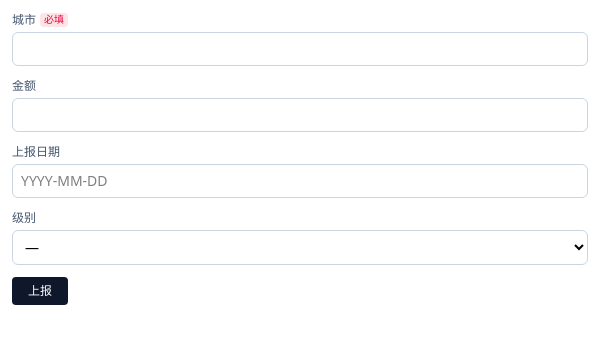
Test: FormRuntime（console 态：corrections 提交） › 必填缺失前端先拦：逐字段错误、零请求
The width and height of the screenshot is (605, 341).
Click the button with test id "form-submit" at (40, 291), box 12,277 -> 68,305
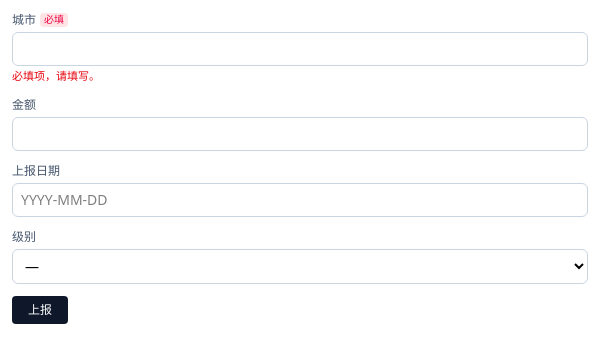
Result: the text with test id "form-field-error" shows "必填" at 12,68 -> 100,83
Type "沪" into the field with test id "form-field-input" showing "城市 必填" at (300, 49), box 12,32 -> 588,66
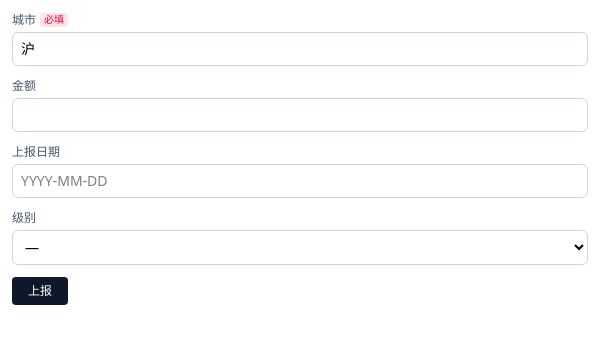
Result: the text with test id "form-field-error" is gone
Click the button with test id "form-submit" at (40, 291), box 12,277 -> 68,305
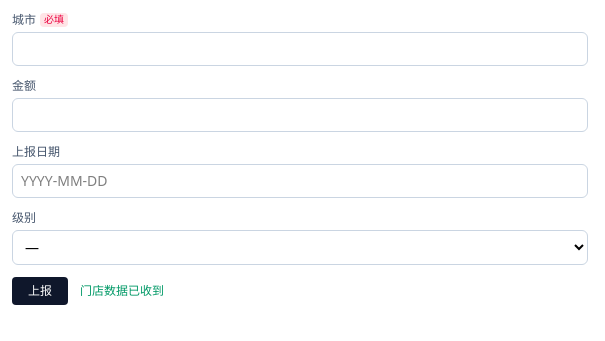
Result: the text "门店数据已收到" is shown at 80,283 -> 164,299
